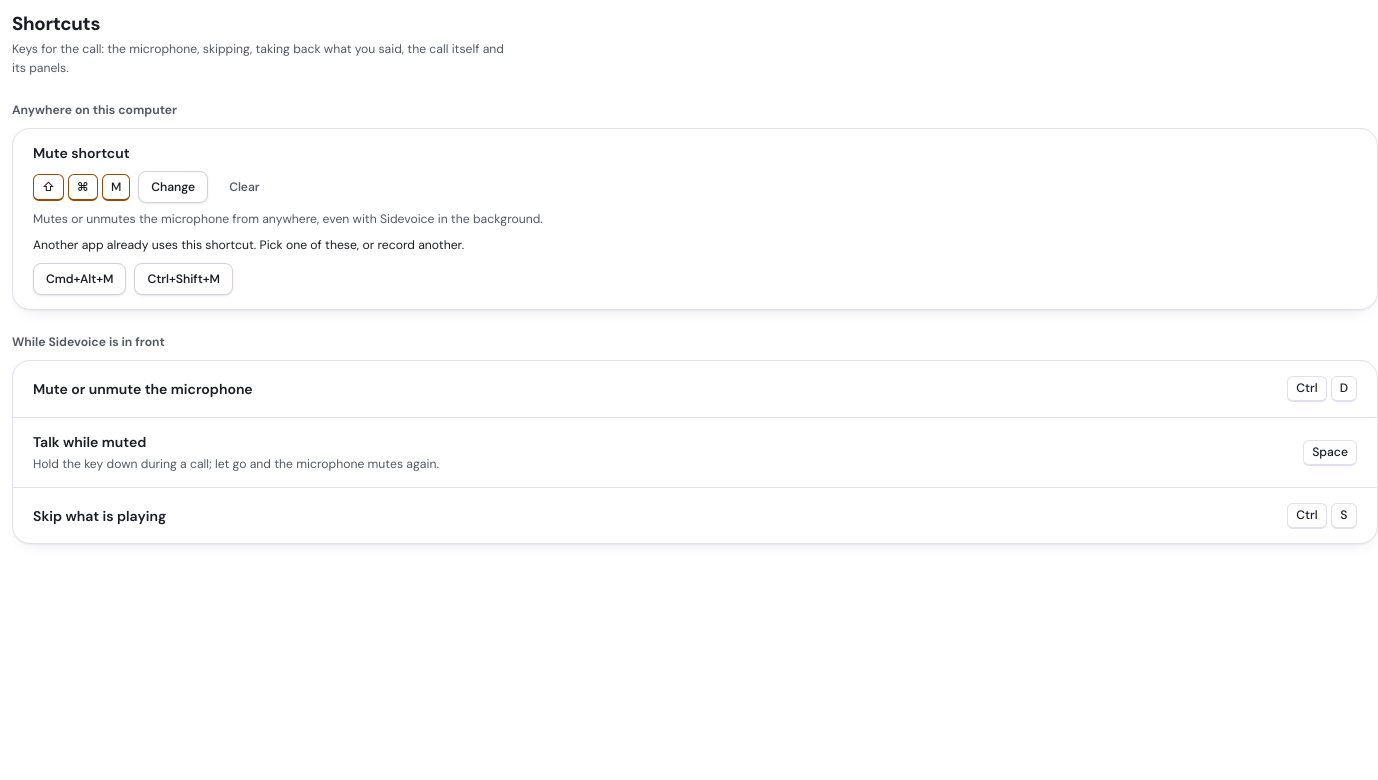
a refused shortcut says so and offers the alternatives, each of which sets it
Expected: the message shows "Another app already uses this shortcut.", [33,237,464,253]
Click the button "Ctrl+Shift+M" at (184, 279), box [134,263,233,295]
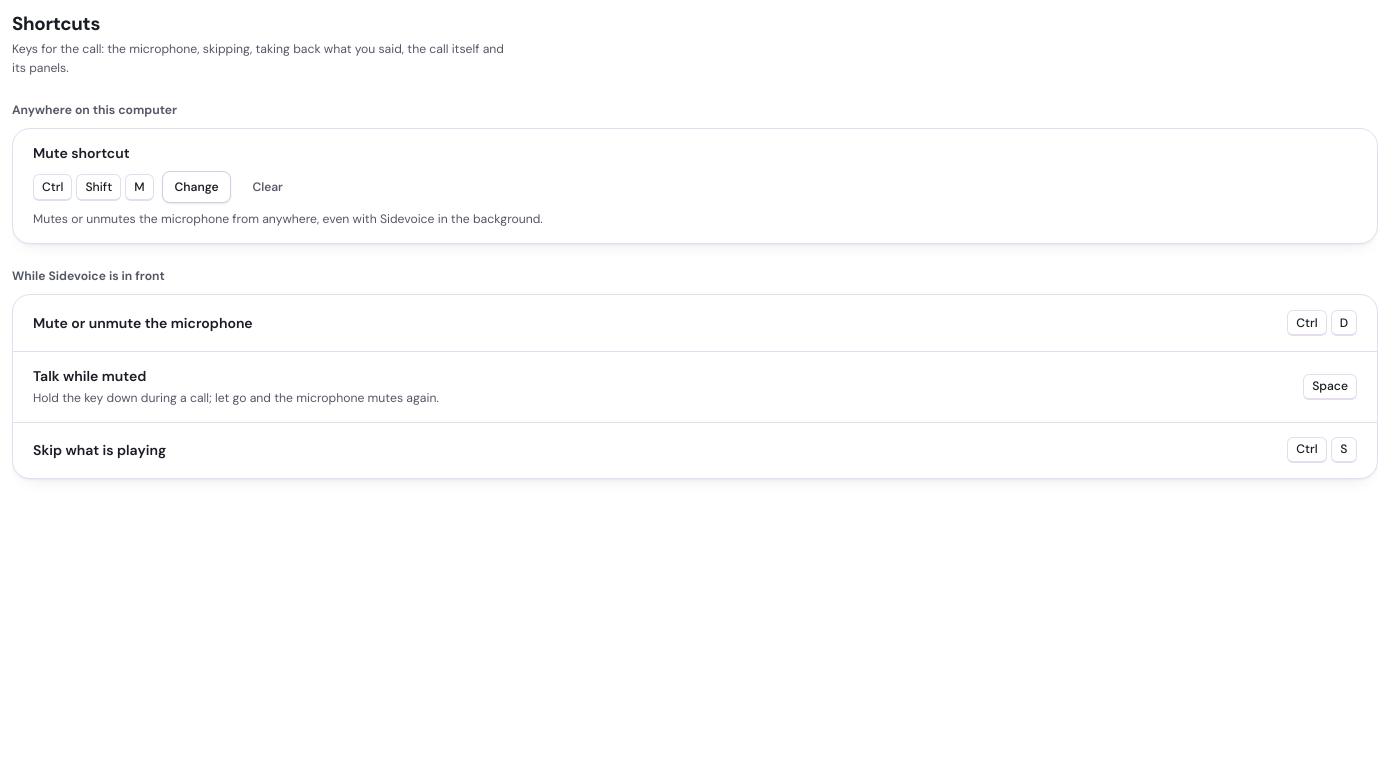
Expected: the message is gone
